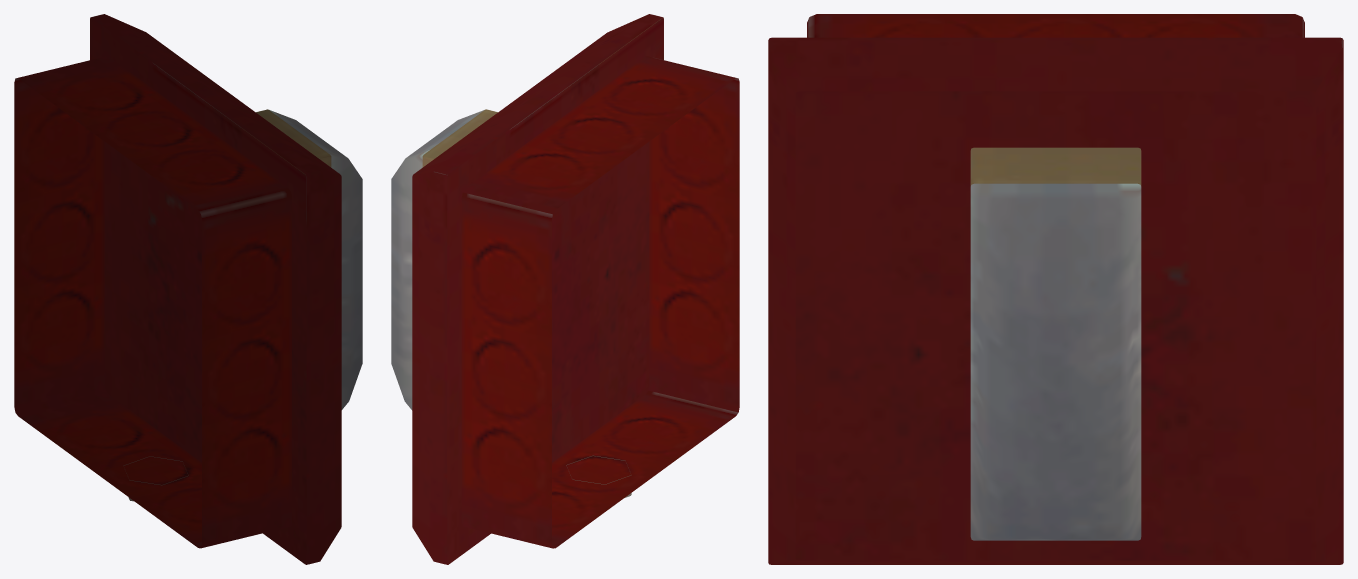
Rendered from com_fire_light_lod0.glb.
3 renders of one model, left to right at view 1: azimuth 30°, elevation 25°; view 2: azimuth 150°, elevation 25°; view 3: azimuth 270°, elevation 25°, orthographic. The views are drawn at different scales.
Parts seen in each view (by area): view 1: surf0; view 2: surf0; view 3: surf0.
Part boxes in pixels (x1,y1,x2,y2): surf0: (14, 14, 362, 564); surf0: (391, 14, 739, 564); surf0: (768, 14, 1343, 564).
Bounding box in the file's own units: 4.55 × 6.85 × 6.89.
